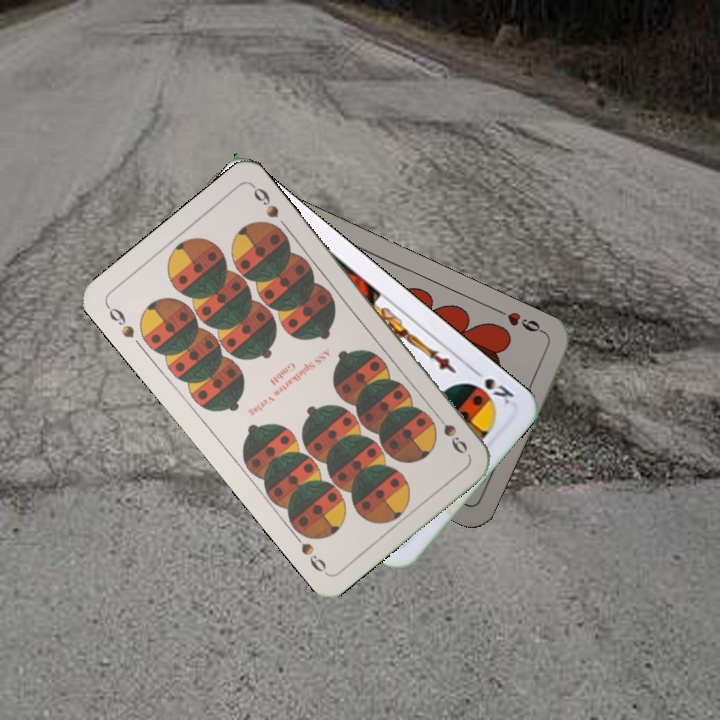H9: (493, 305, 549, 337)
S9: (429, 407, 471, 457), (102, 300, 137, 341)
SK: (467, 363, 517, 407)
